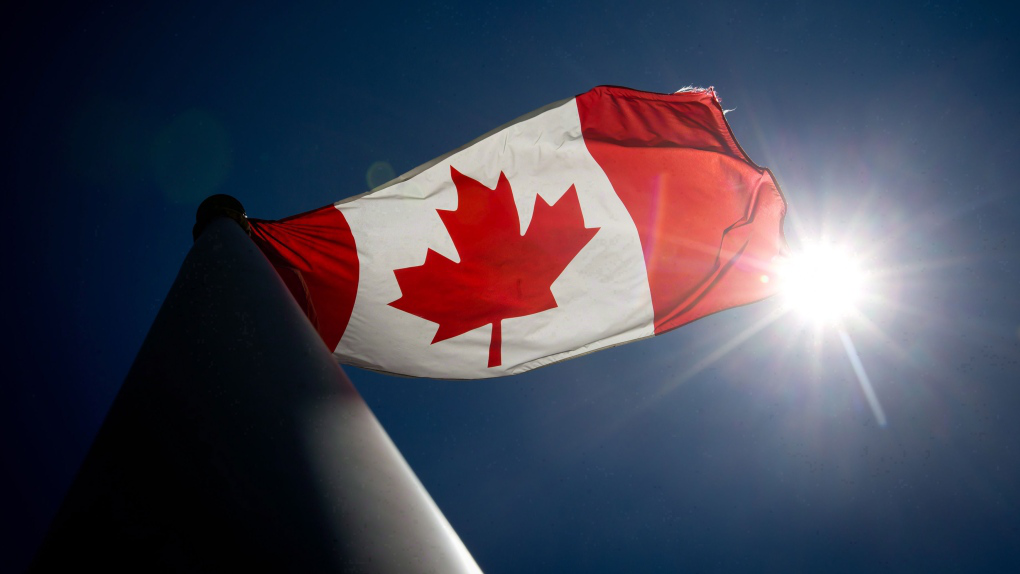Canada flag: (237, 79, 788, 382)
